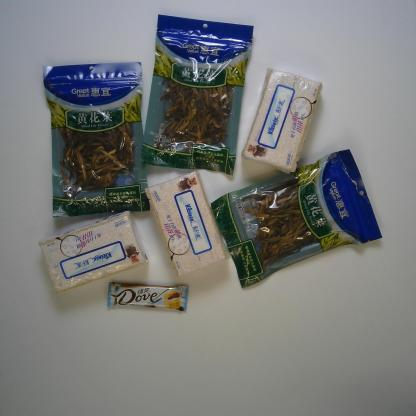Chocolate: (107, 281, 189, 313)
Dried Food: (211, 148, 383, 288), (141, 14, 254, 178), (42, 61, 151, 219)
Tissue: (144, 167, 229, 278), (38, 210, 148, 294), (242, 67, 322, 174)
